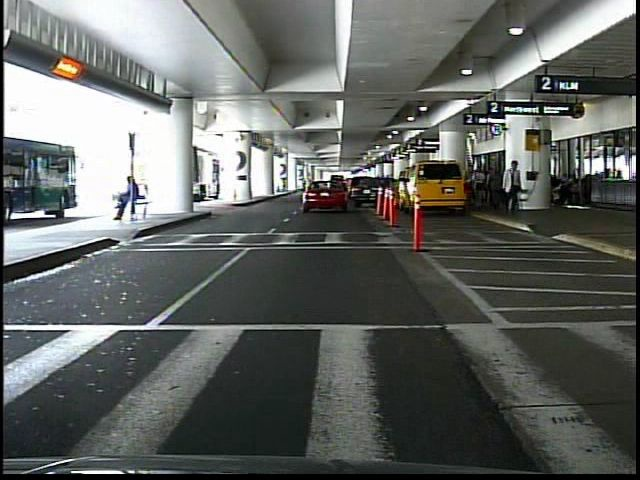person: (505, 162, 524, 214), (487, 164, 503, 216), (475, 165, 489, 209), (299, 179, 308, 193)
